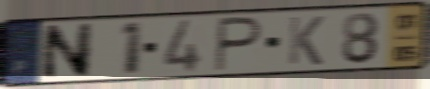1: (118, 20, 144, 77)
4: (161, 18, 204, 75)
8: (340, 10, 381, 67)
K: (286, 14, 327, 67)
N: (41, 21, 96, 82)
P: (212, 15, 265, 74)
